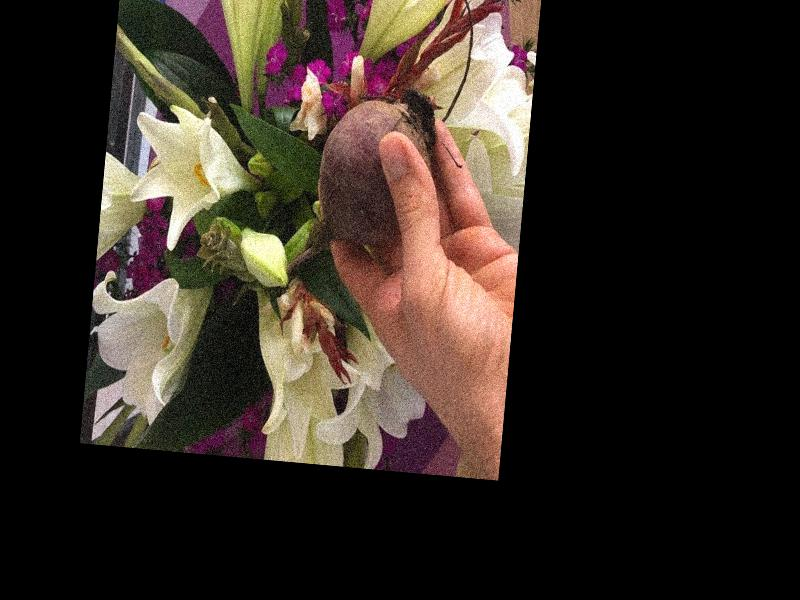Beet: (284, 79, 439, 289)
